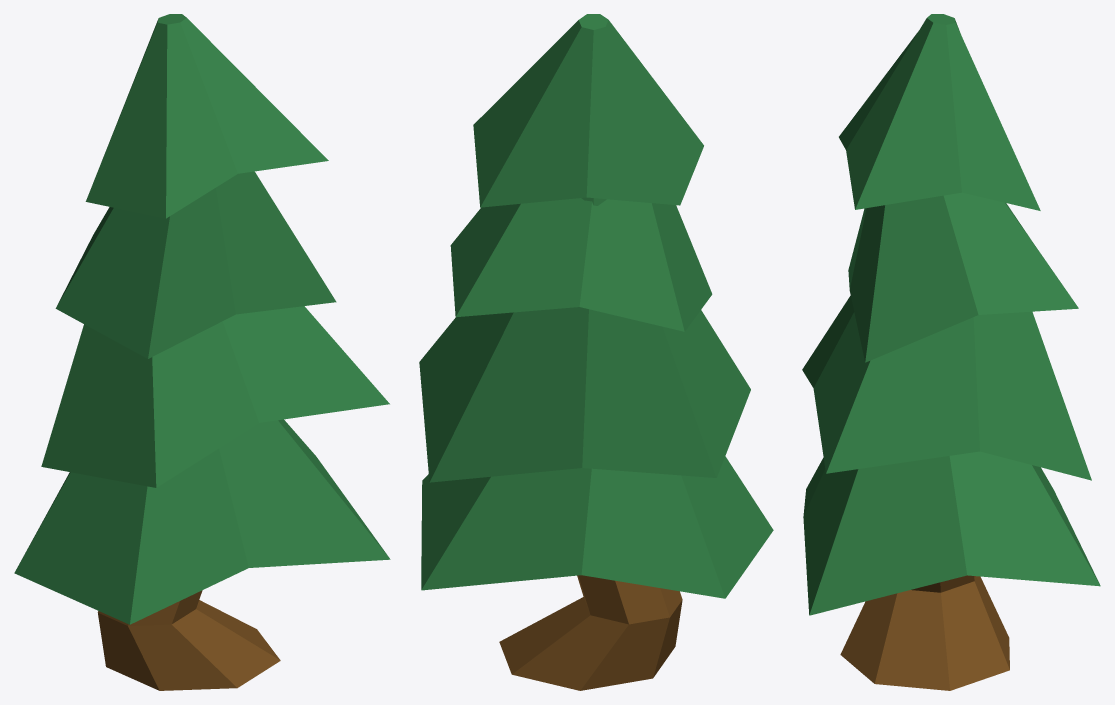
The model's file is Tree3.fbx.
3 renders of one model, left to right at view 1: azimuth 30°, elevation 25°; view 2: azimuth 150°, elevation 25°; view 3: azimuth 270°, elevation 25°, orthographic.
Visible parts, largest first — view 1: Tree3; view 2: Tree3; view 3: Tree3.
Boxes of the visible parts, x1=… form: Tree3: x1=14, y1=14, x2=390, y2=690; Tree3: x1=419, y1=14, x2=773, y2=690; Tree3: x1=802, y1=14, x2=1100, y2=690.
Bounding box in the file's own units: 390 × 781 × 335.
